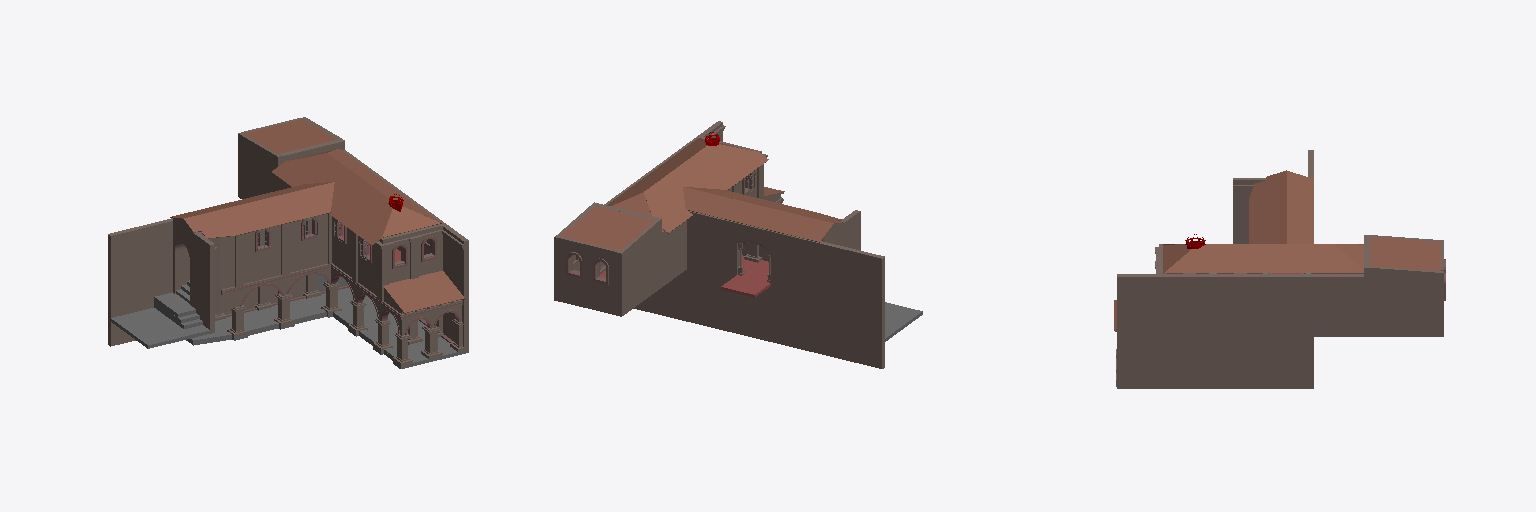
Rendered from GFCOORDENADAS.obj.
The picture shows the model from 3 angles: view 1: azimuth 30°, elevation 25°; view 2: azimuth 150°, elevation 25°; view 3: azimuth 270°, elevation 25°; orthographic projection.
Parts seen in each view (by area): view 1: Object_107, Object_83, Object_67, Object_88, Object_46, Object_49, 3DGeom_2, Object_43, Object_47, Object_93, Object_14, Object_64 (+10 smaller); view 2: Object_49, Object_107, Object_46, Object_47, Object_48, Object_9, Object_43, Object_93, Object_94, Object_64, Object_23, 3DGeom_2; view 3: Object_43, Object_107, Object_9, Object_64.
Boxes of the visible parts, <box> form: Object_107: <box>170,149,441,244</box>; Object_83: <box>215,274,463,365</box>; Object_67: <box>220,214,327,289</box>; Object_88: <box>186,285,463,368</box>; Object_46: <box>108,218,305,290</box>; Object_49: <box>108,276,347,346</box>; 3DGeom_2: <box>235,213,418,300</box>; Object_43: <box>301,117,468,353</box>; Object_47: <box>238,132,290,198</box>; Object_93: <box>111,308,209,348</box>; Object_14: <box>383,271,464,312</box>; Object_64: <box>193,232,214,333</box>; Object_49: <box>633,266,884,368</box>; Object_107: <box>607,138,843,242</box>; Object_46: <box>687,211,884,312</box>; Object_47: <box>617,217,686,316</box>; Object_48: <box>559,237,617,315</box>; Object_9: <box>560,206,655,250</box>; Object_43: <box>554,121,722,301</box>; Object_93: <box>885,302,922,341</box>; Object_94: <box>721,274,770,297</box>; Object_64: <box>841,210,860,250</box>; Object_23: <box>566,172,752,284</box>; 3DGeom_2: <box>600,155,763,273</box>; Object_43: <box>1117,265,1443,388</box>; Object_107: <box>1163,170,1363,273</box>; Object_9: <box>1370,236,1440,270</box>; Object_64: <box>1233,178,1265,243</box>.
Bounding box in the file's own units: 1206 × 604 × 1319.